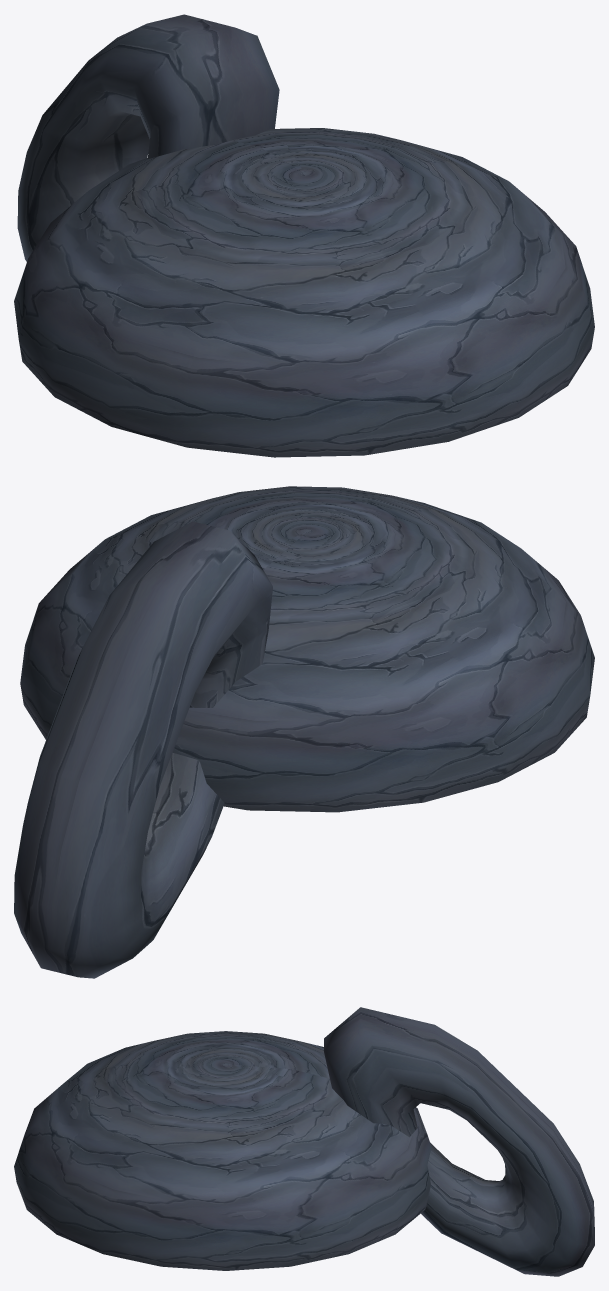
File: FolklostCave.fbx
3 renders of one model, top to bottom at view 1: azimuth 30°, elevation 25°; view 2: azimuth 150°, elevation 25°; view 3: azimuth 270°, elevation 25°, orthographic. The views are drawn at different scales.
Visible parts, largest first — view 1: pSphere1, pTorus1; view 2: pSphere1, pTorus1; view 3: pSphere1, pTorus1.
Part boxes in pixels (bbox=[...]): pSphere1: bbox=[14, 128, 594, 457]; pTorus1: bbox=[17, 14, 279, 261]; pSphere1: bbox=[20, 486, 594, 812]; pTorus1: bbox=[14, 521, 272, 978]; pSphere1: bbox=[14, 1031, 432, 1270]; pTorus1: bbox=[324, 1007, 594, 1276].
Bounding box in the file's own units: 22.62 × 15.09 × 31.
Materials: 1 (1 with a texture image).
